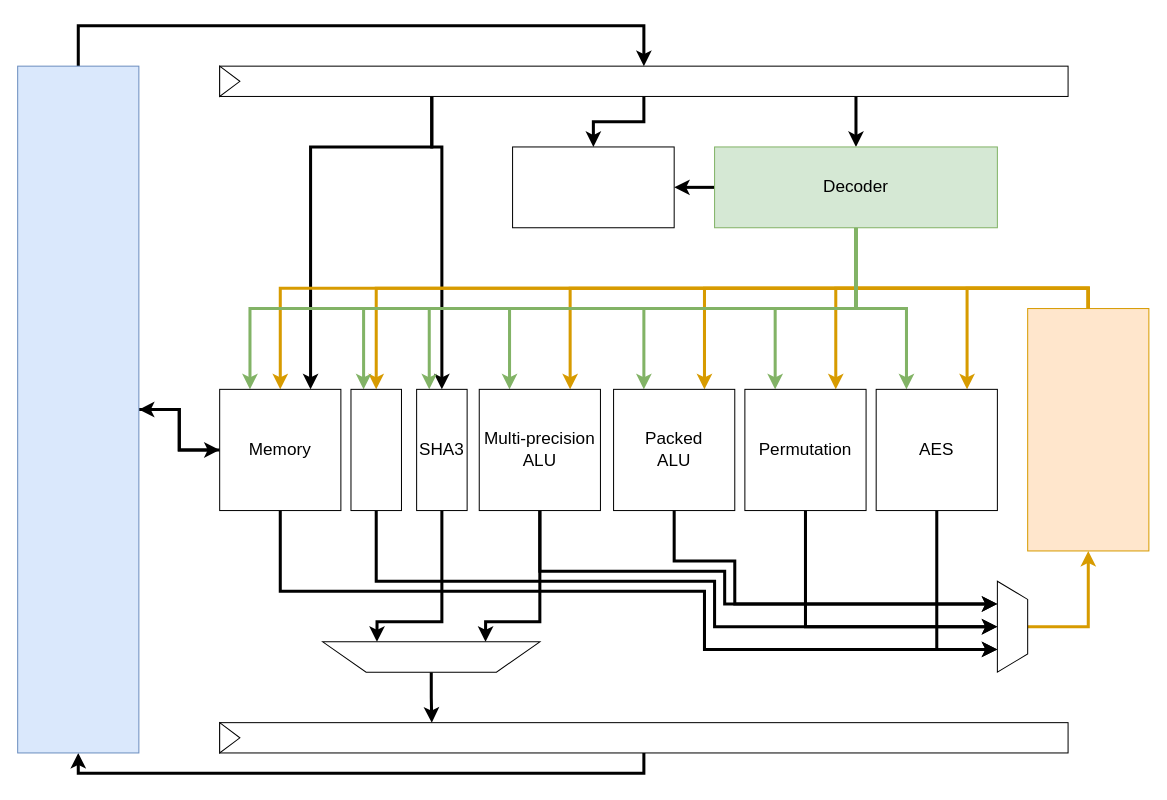
The diagram is 1167 pixels wide and 800 high, and some of its shapes have lost their labels. The centre of each missing label's shape, as x and y in pixels:
Control FSM: the point at 593,187
Host CPU: the point at 78,409
RNG: the point at 375,449
XCrypto Register File: the point at 1088,429
